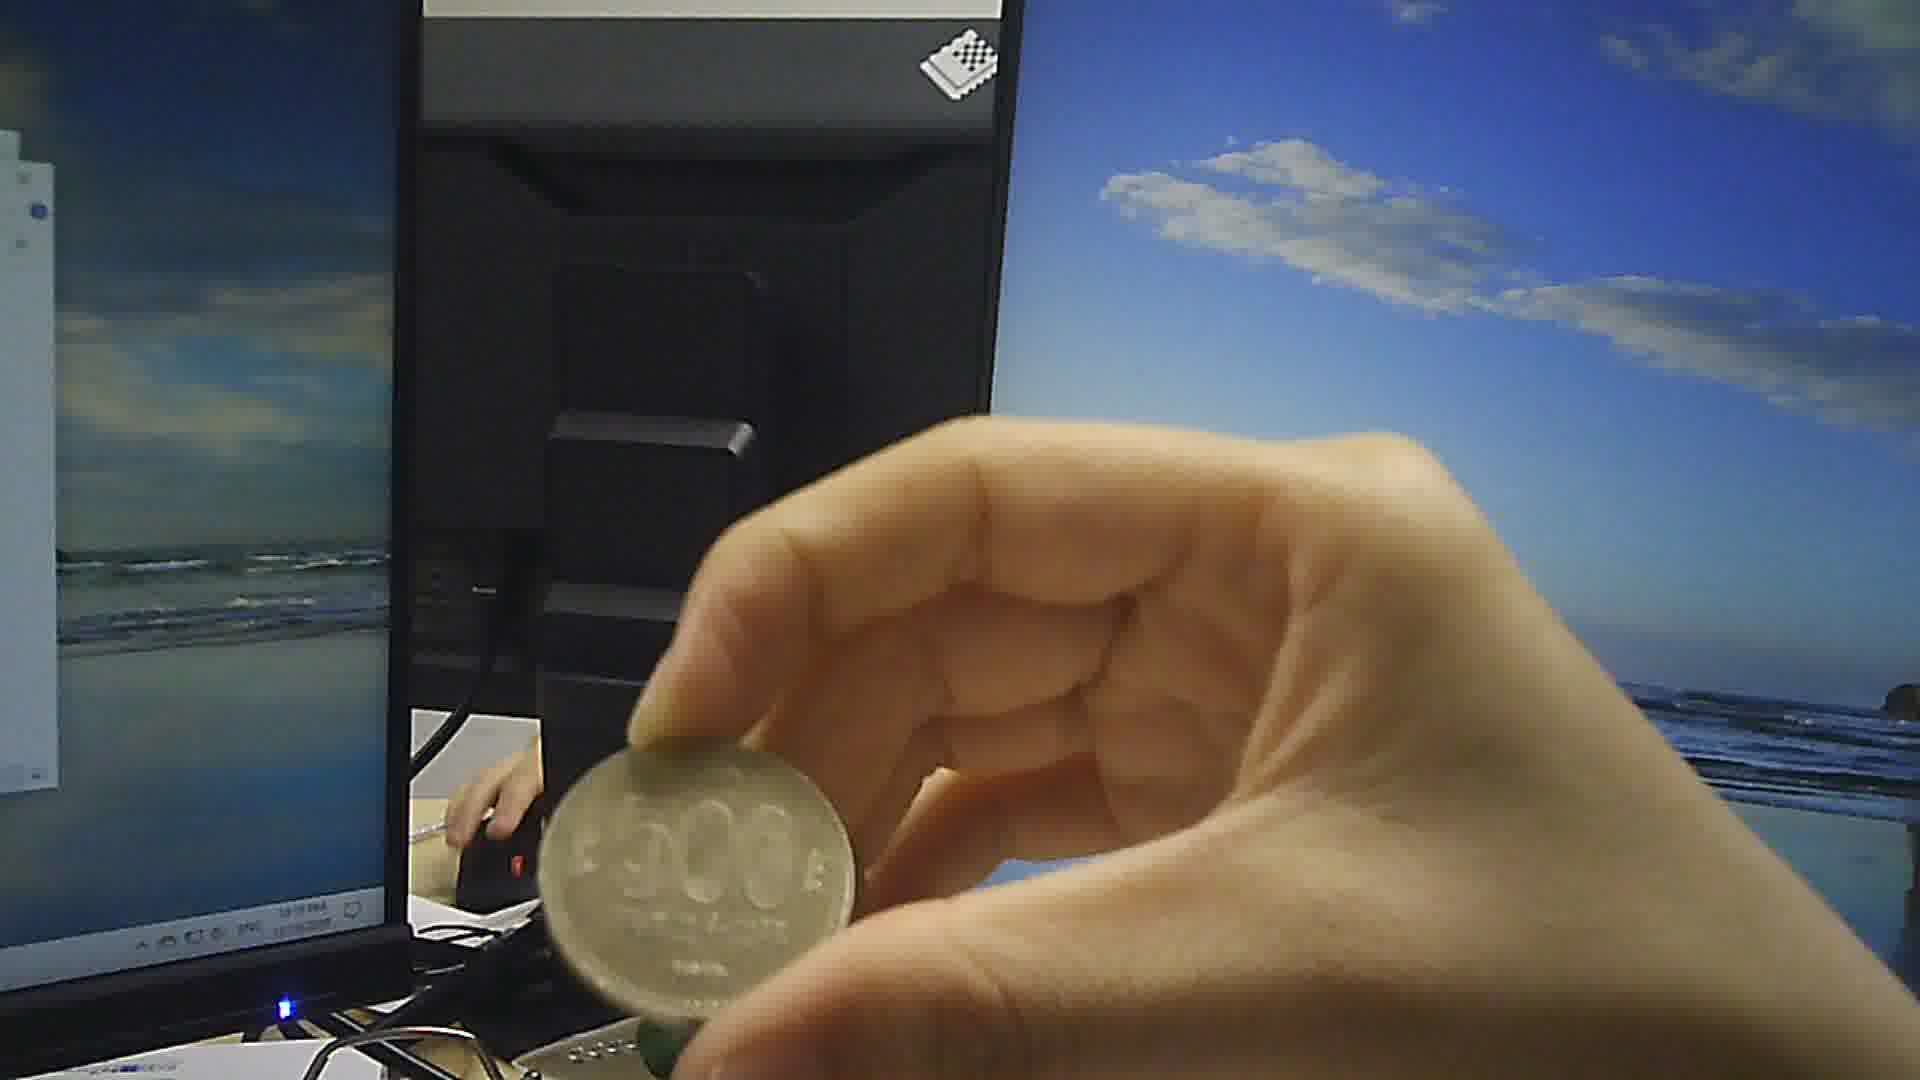500 Yen: (534, 720, 852, 1011)
